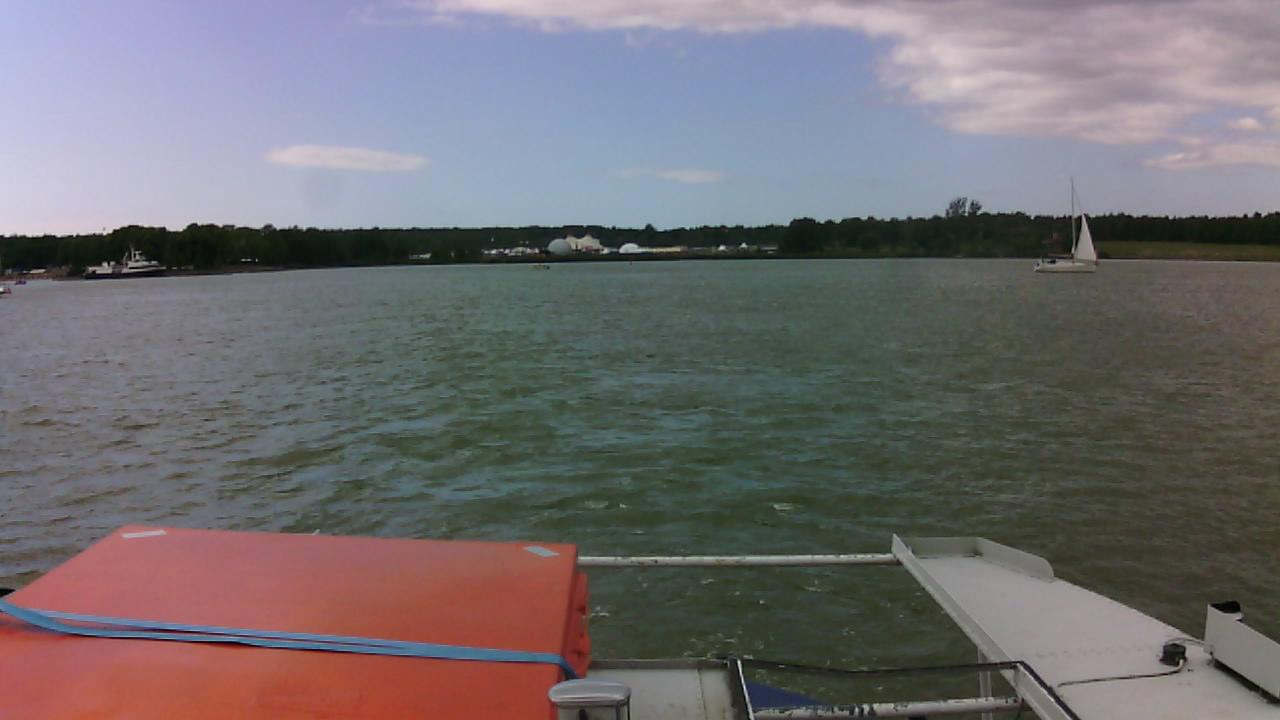Ship: (1034, 178, 1101, 276), (88, 251, 169, 280)
